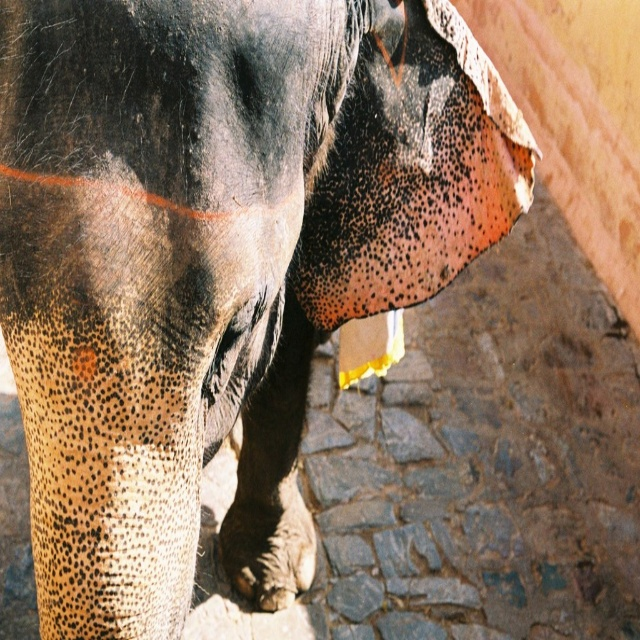Elephant: (0, 8, 518, 629)
